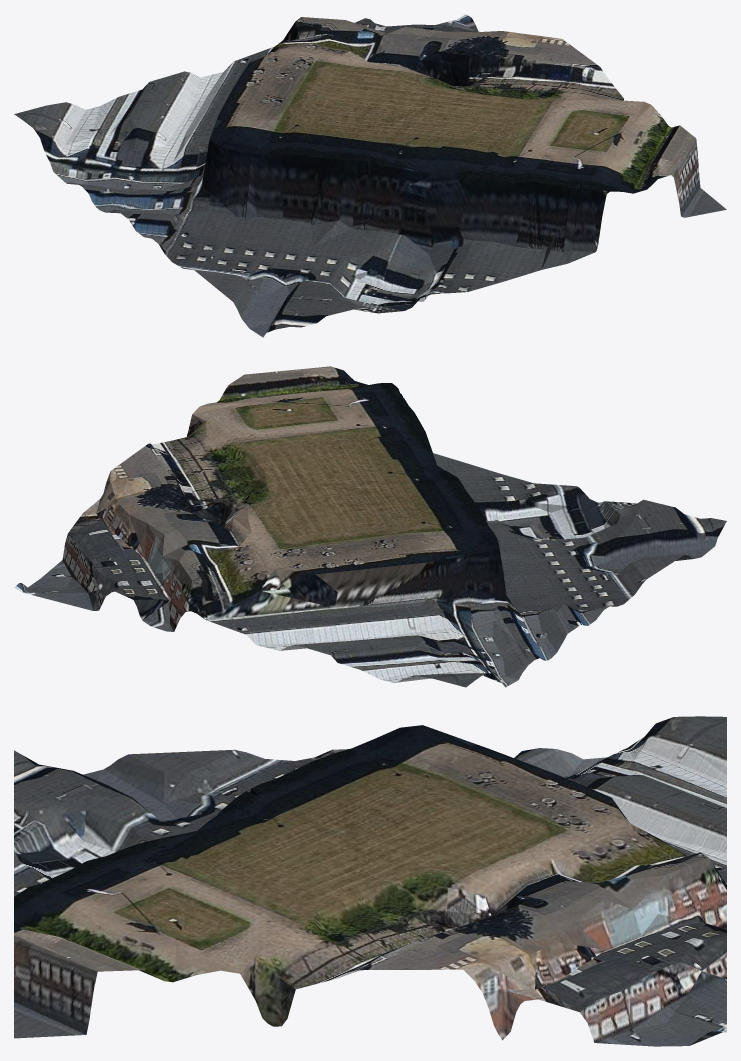
Rendered from map_15_8183_13784.dae.
3 views of the same model, one above another, from view 1: azimuth 30°, elevation 25°; view 2: azimuth 150°, elevation 25°; view 3: azimuth 270°, elevation 25° (orthographic). The views are drawn at different scales.
Parts seen in each view (by area): view 1: Ter0; view 2: Ter0; view 3: Ter0.
Part boxes in pixels (x1,y1,x2,y2): Ter0: (14, 14, 726, 337); Ter0: (14, 366, 726, 687); Ter0: (14, 716, 726, 1046).
Size of the model in its own units: 63.87 by 63.88 by 12.06.
Materials: 3 (3 with a texture image).
